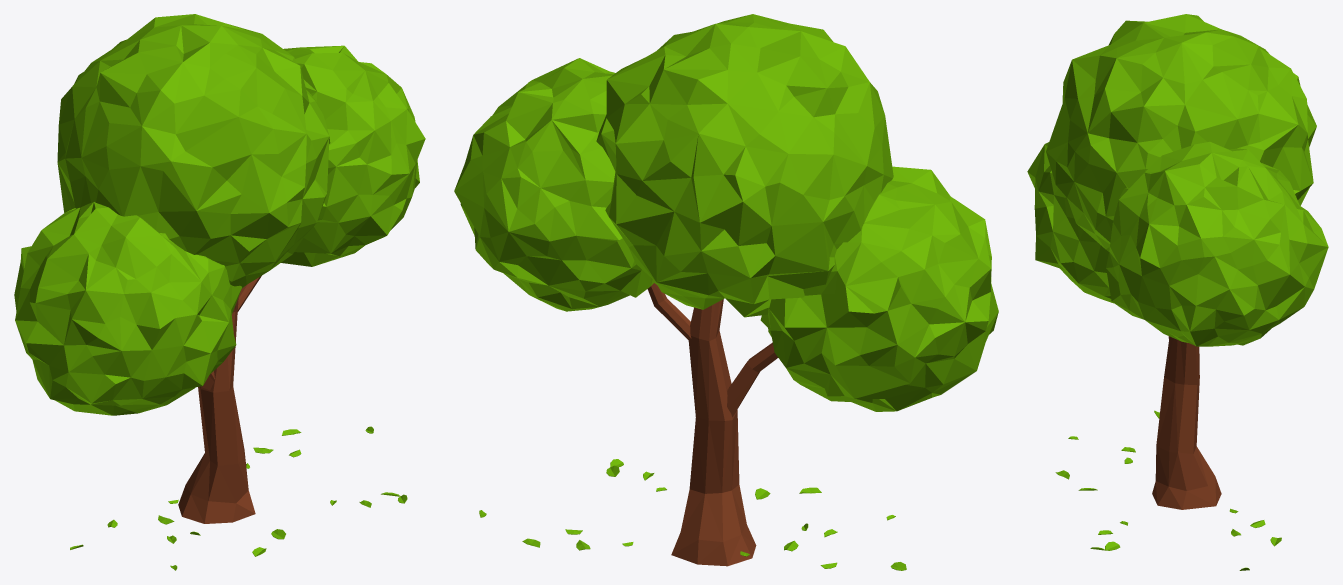
File: mediumTree.glb
The picture shows the model from 3 angles, left to right: view 1: azimuth 30°, elevation 25°; view 2: azimuth 150°, elevation 25°; view 3: azimuth 270°, elevation 25°; orthographic projection. The views are drawn at different scales.
Parts seen in each view (by area): view 1: Tree.2, Leaves_pile.2; view 2: Tree.2, Leaves_pile.2; view 3: Tree.2, Leaves_pile.2.
Part boxes in pixels (x1,y1,x2,y2): Tree.2: (14, 14, 425, 523); Leaves_pile.2: (70, 426, 407, 570); Tree.2: (454, 14, 998, 566); Leaves_pile.2: (479, 459, 906, 570); Tree.2: (1027, 14, 1328, 509); Leaves_pile.2: (1055, 410, 1281, 570).
Bounding box in the file's own units: 6.01 × 6.51 × 3.92.
